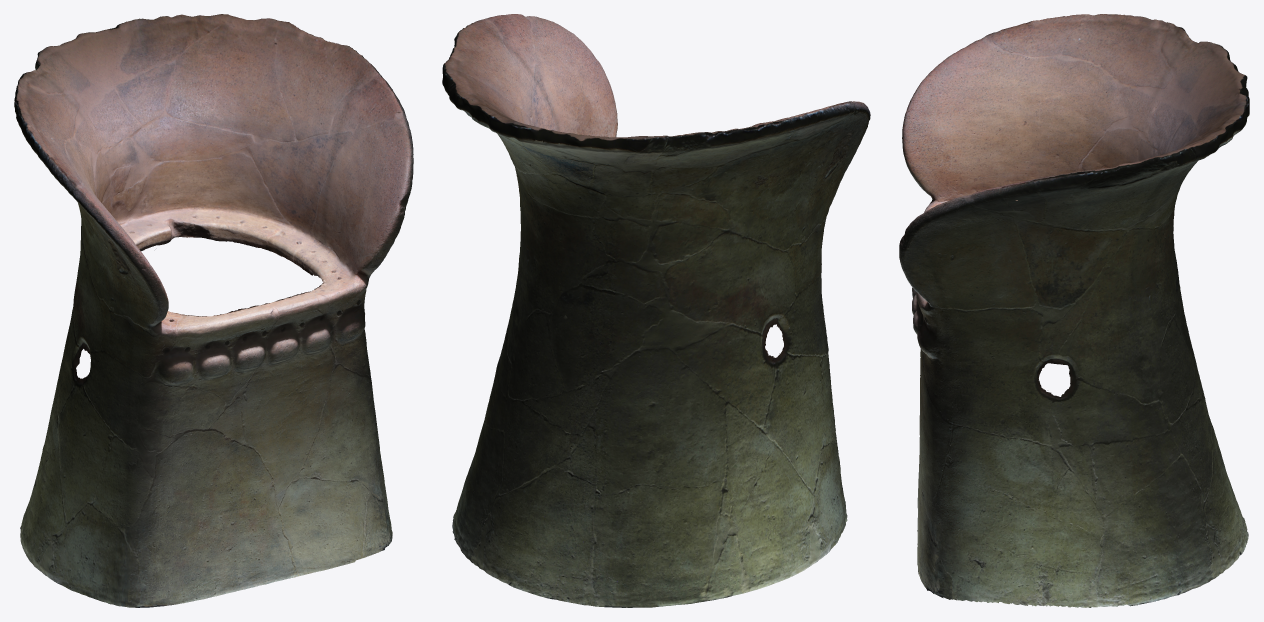
File: throne.gltf
The picture shows the model from 3 angles, left to right: view 1: azimuth 30°, elevation 25°; view 2: azimuth 150°, elevation 25°; view 3: azimuth 270°, elevation 25°; orthographic projection. The views are drawn at different scales.
Visible parts, largest first — view 1: trono; view 2: trono; view 3: trono.
Boxes of the visible parts, x1,y1,x2,y2 form: trono: (14, 14, 413, 607); trono: (442, 14, 870, 607); trono: (899, 14, 1249, 607).
Bounding box in the file's own units: 0.7467 × 0.9429 × 0.6642.
4 materials, 4 textured.
